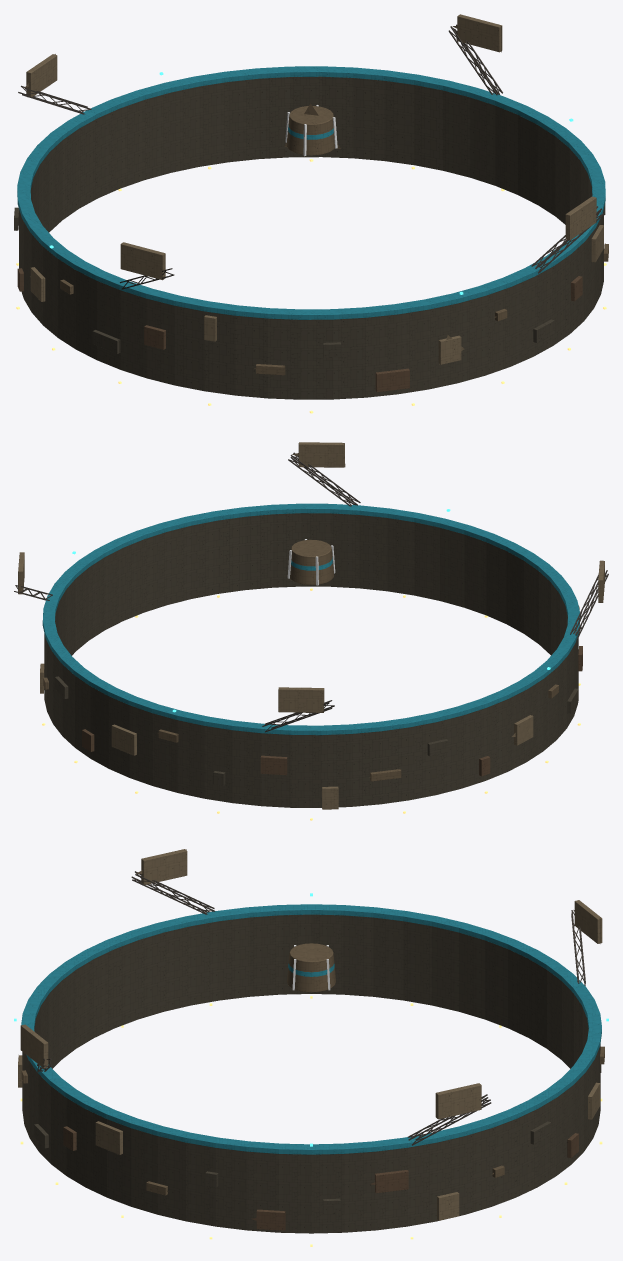
Rendered from var_station_kit_frontier_v01.glb.
The picture shows the model from 3 angles, top to bottom: view 1: azimuth 30°, elevation 25°; view 2: azimuth 150°, elevation 25°; view 3: azimuth 270°, elevation 25°; orthographic projection. The views are drawn at different scales.
Visible parts, largest first — view 1: LOD0_Armor, LOD1_Armor, LOD0_Livery, LOD0_Hull_patch, LOD1_Livery, LOD0_Hull, LOD0_Mechanical, LOD0_Hull_rust; view 2: LOD0_Armor, LOD1_Armor, LOD0_Livery, LOD1_Livery, LOD0_Hull_patch, LOD0_Hull, LOD0_Mechanical, LOD0_Hull_rust; view 3: LOD0_Armor, LOD1_Armor, LOD0_Livery, LOD0_Hull_patch, LOD1_Livery, LOD0_Hull, LOD0_Mechanical, LOD0_Hull_rust.
Part boxes in pixels (box(x1,y1,x2,y2)): LOD0_Armor: box(14, 76, 605, 399); LOD1_Armor: box(16, 77, 603, 399); LOD0_Livery: box(17, 66, 605, 319); LOD0_Hull_patch: box(26, 14, 603, 364); LOD1_Livery: box(17, 66, 605, 319); LOD0_Hull: box(60, 106, 608, 375); LOD0_Mechanical: box(18, 24, 604, 289); LOD0_Hull_rust: box(17, 268, 582, 392); LOD0_Armor: box(44, 513, 578, 807); LOD1_Armor: box(44, 513, 578, 807); LOD0_Livery: box(42, 503, 579, 735); LOD1_Livery: box(42, 504, 579, 735); LOD0_Hull_patch: box(18, 442, 604, 809); LOD0_Hull: box(43, 539, 558, 781); LOD0_Mechanical: box(14, 452, 608, 732); LOD0_Hull_rust: box(82, 646, 582, 776); LOD0_Armor: box(22, 914, 601, 1233); LOD1_Armor: box(22, 914, 600, 1233); LOD0_Livery: box(21, 904, 601, 1154); LOD0_Hull_patch: box(18, 849, 602, 1220); LOD1_Livery: box(21, 904, 601, 1154); LOD0_Hull: box(21, 943, 604, 1195); LOD0_Mechanical: box(37, 871, 585, 1145); LOD0_Hull_rust: box(63, 1126, 578, 1230).
Size of the model in its own units: 108 by 36.46 by 108.
9 materials, 7 textured.
